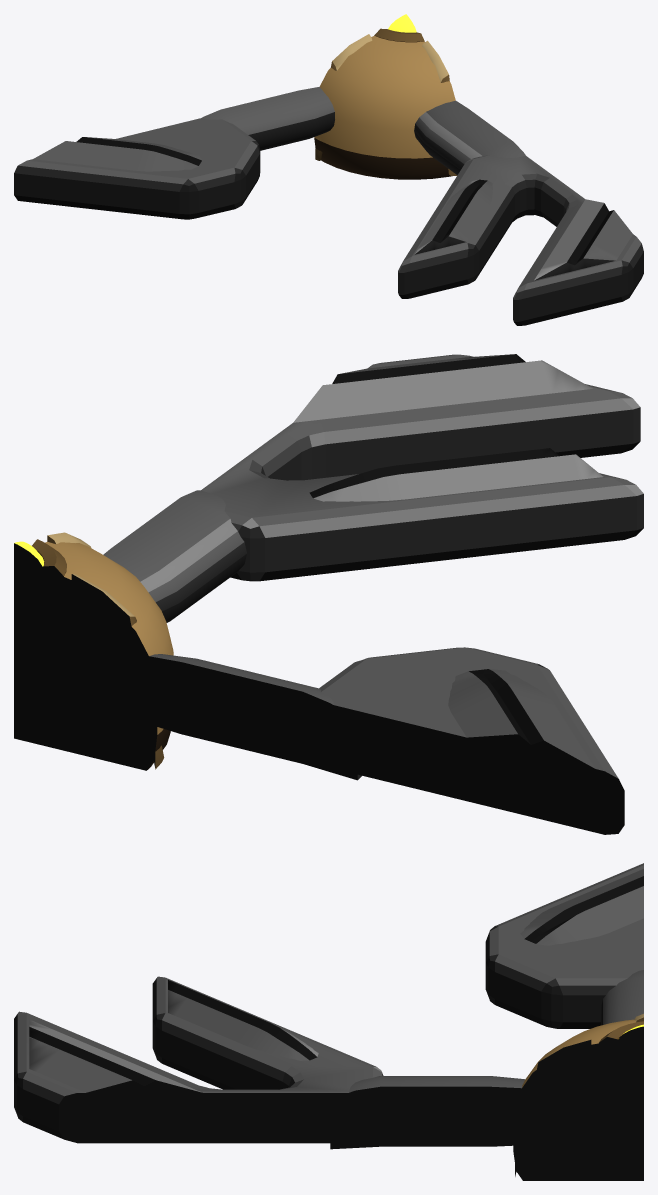
The model's file is spin_claw_115.glb.
3 views of the same model, one above another, from view 1: azimuth 30°, elevation 25°; view 2: azimuth 150°, elevation 25°; view 3: azimuth 270°, elevation 25° (orthographic). The views are drawn at different scales.
Visible parts, largest first — view 1: spin_claw_115_arm2_plate, spin_claw_115_arm3_plate, spin_claw_115_hub_dome, spin_claw_115_arm3_rod, spin_claw_115_arm2_rod, spin_claw_115_arm2_ridge0, spin_claw_115_arm3_ridge0, spin_claw_115_arm2_ridge1, spin_claw_115_hub_rib3, spin_claw_115_hub_bezel, spin_claw_115_hub_rib2; view 2: spin_claw_115_arm2_plate, spin_claw_115_arm3_plate, spin_claw_115_hub_dome, spin_claw_115_arm3_rod, spin_claw_115_arm2_ridge0, spin_claw_115_arm2_rod, spin_claw_115_arm3_ridge0, spin_claw_115_arm2_ridge1, spin_claw_115_hub_rib3, spin_claw_115_hub_bezel, spin_claw_115_hub_lens; view 3: spin_claw_115_arm2_plate, spin_claw_115_hub_dome, spin_claw_115_arm2_rod, spin_claw_115_arm3_plate, spin_claw_115_arm2_ridge0, spin_claw_115_arm3_ridge0, spin_claw_115_arm2_ridge1, spin_claw_115_arm3_rod, spin_claw_115_hub_rib2, spin_claw_115_hub_lens, spin_claw_115_hub_bezel.
Part boxes in pixels (x1,y1,x2,y2): spin_claw_115_arm2_plate: (398,155,643,325); spin_claw_115_arm3_plate: (14,118,260,219); spin_claw_115_hub_dome: (314,35,455,179); spin_claw_115_arm3_rod: (202,87,334,150); spin_claw_115_arm2_rod: (414,100,525,174); spin_claw_115_arm2_ridge0: (534,199,632,280); spin_claw_115_arm3_ridge0: (33,137,201,171); spin_claw_115_arm2_ridge1: (414,179,492,254); spin_claw_115_hub_rib3: (315,34,372,160); spin_claw_115_hub_bezel: (374,28,424,42); spin_claw_115_hub_rib2: (422,40,457,175); spin_claw_115_arm2_plate: (201,354,643,581); spin_claw_115_arm3_plate: (297,647,624,834); spin_claw_115_hub_dome: (14,541,173,770); spin_claw_115_arm3_rod: (102,648,361,780); spin_claw_115_arm2_ridge0: (293,354,592,422); spin_claw_115_arm2_rod: (103,490,246,622); spin_claw_115_arm3_ridge0: (448,669,607,780); spin_claw_115_arm2_ridge1: (309,448,603,501); spin_claw_115_hub_rib3: (71,574,164,769); spin_claw_115_hub_bezel: (14,539,66,587); spin_claw_115_hub_lens: (14,541,44,586); spin_claw_115_arm2_plate: (14,976,385,1143); spin_claw_115_hub_dome: (513,1019,643,1180); spin_claw_115_arm2_rod: (330,1076,563,1149); spin_claw_115_arm3_plate: (485,863,643,1028); spin_claw_115_arm2_ridge0: (29,1019,214,1102); spin_claw_115_arm3_ridge0: (520,869,643,945); spin_claw_115_arm2_ridge1: (168,980,318,1060); spin_claw_115_arm3_rod: (601,970,643,1025); spin_claw_115_hub_rib2: (515,1040,591,1176); spin_claw_115_hub_lens: (616,1024,643,1055); spin_claw_115_hub_bezel: (598,1021,643,1052).
Size of the model in its own units: 20.08 by 6.14 by 22.7.
